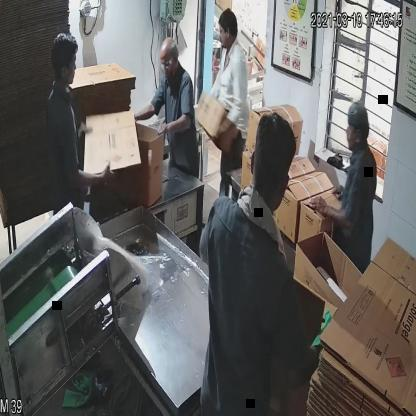no_glove: (69, 150, 119, 198), (311, 185, 353, 236), (150, 111, 194, 148), (126, 102, 160, 128)
